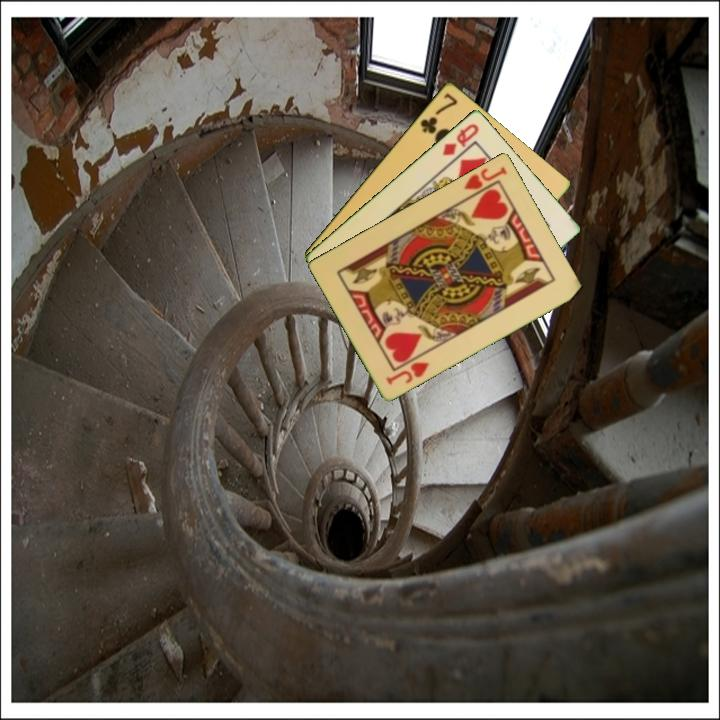7c: (416, 89, 461, 137)
Jh: (460, 162, 510, 202), (382, 358, 432, 387)
Qd: (439, 119, 482, 158)
